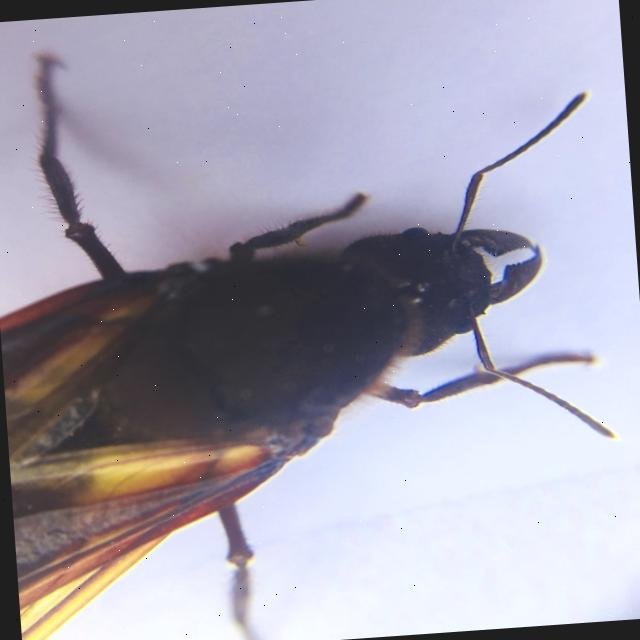Alive-Female-Alate: (0, 12, 632, 640)
